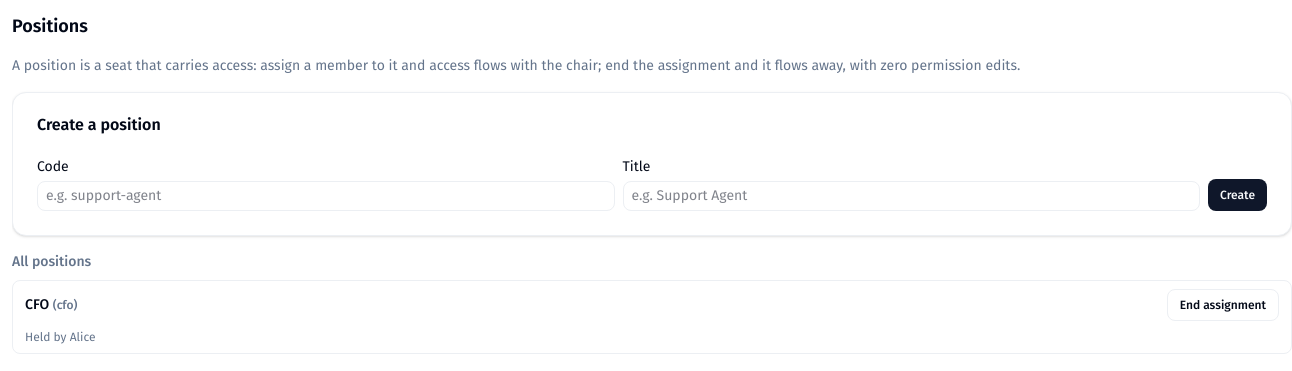
AdminPositionsPage › ends an assignment and reloads the list
What coordinates should you click on to do the following:
click the button with test id "admin-position-end-p1"
I would click on:
 (1223, 305)
Its box is left=1167, top=289, right=1279, bottom=321.
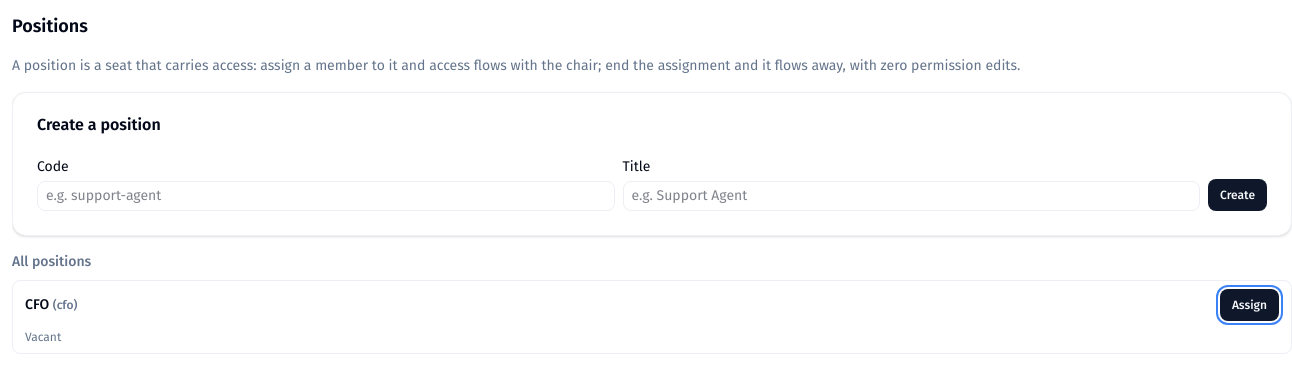
Expected: the text "Vacant" is shown, left=25, top=330, right=61, bottom=344
